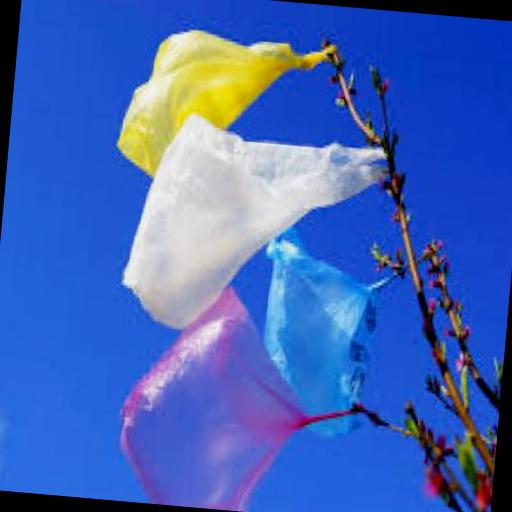plastic: (112, 103, 390, 344), (116, 275, 367, 512), (110, 22, 334, 194), (250, 219, 398, 442)
